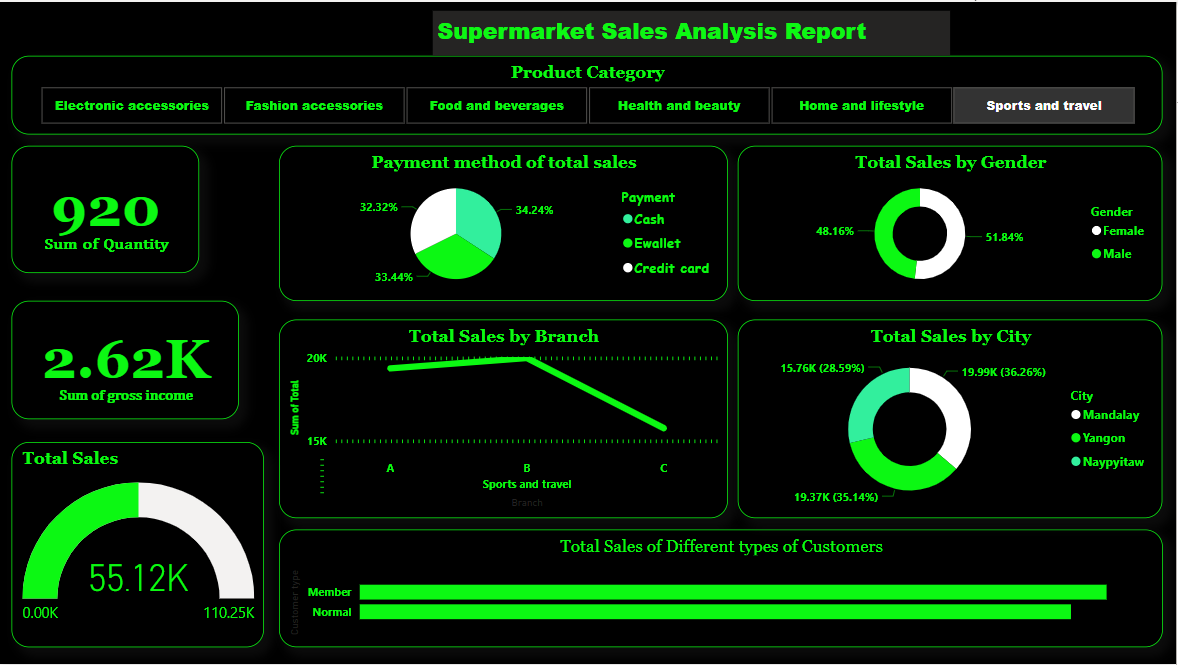

Layout of this report page (visuals, bound fields, positions):
{"tool":"powerbi","page":{"name":"Page 1","canvas":[1280,720],"ordinal":0},"visuals":[{"type":"lineChart","title":"Total Sales by Branch","fields":{"Y":["Sum(supermarket_sales - Sheet1 (2).Total)"],"Category":["supermarket_sales - Sheet1 (2).Product line","supermarket_sales - Sheet1 (2).Branch"]},"box":[304.4,345.1,487.8,216.1],"z":0},{"type":"slicer","title":"Product Category","fields":{"Values":["supermarket_sales - Sheet1 (2).Product line"]},"box":[13.6,58.4,1251.5,85.6],"z":1000},{"type":"clusteredBarChart","title":"Total Sales of Different types of   Customers","fields":{"Category":["supermarket_sales - Sheet1 (2).Customer type"],"Y":["Sum(supermarket_sales - Sheet1 (2).Total)"]},"box":[304.4,573.4,960.7,127.7],"z":2000},{"type":"card","title":"Total Gross Income","fields":{"Values":["Sum(supermarket_sales - Sheet1 (2).gross income)"]},"box":[13.6,324.8,247.3,129.1],"z":3000},{"type":"card","fields":{"Values":["Sum(supermarket_sales - Sheet1 (2).Quantity)"]},"box":[13.6,156.3,203.8,138.6],"z":4000},{"type":"donutChart","title":"Total Sales by City","fields":{"Y":["Sum(supermarket_sales - Sheet1 (2).Total)"],"Category":["supermarket_sales - Sheet1 (2).City"]},"box":[803.1,345.1,462,216.1],"z":5000},{"type":"gauge","title":"Total Sales ","fields":{"Y":["Sum(supermarket_sales - Sheet1 (2).Total)"]},"box":[13.6,478.3,274.5,222.8],"z":6000},{"type":"pieChart","title":" Payment method of total sales","fields":{"Y":["Sum(supermarket_sales - Sheet1 (2).Total)"],"Category":["supermarket_sales - Sheet1 (2).Payment"]},"box":[304.4,156.3,487.8,168.5],"z":7000},{"type":"donutChart","title":"Total Sales by Gender","fields":{"Y":["Sum(supermarket_sales - Sheet1 (2).Total)"],"Category":["supermarket_sales - Sheet1 (2).Gender"]},"box":[803.1,156.3,462,168.5],"z":8000},{"type":"textbox","box":[471.5,9.5,562.5,48.9],"z":9000}]}

Visuals, with their boxes in screenshot pixels (x1, y1, x2, y2), scaled from the page's 1280x720 canvas onto the 1178x665 screenshot:
"Total Sales by Branch" lineChart: box(280, 319, 729, 518)
"Product Category" slicer: box(13, 54, 1164, 133)
"Total Sales of Different types of   Customers" clusteredBarChart: box(280, 530, 1164, 648)
"Total Gross Income" card: box(13, 300, 240, 419)
card - Sum(supermarket_sales - Sheet1 (2).Quantity): box(13, 144, 200, 272)
"Total Sales by City" donutChart: box(739, 319, 1164, 518)
"Total Sales " gauge: box(13, 442, 265, 648)
" Payment method of total sales" pieChart: box(280, 144, 729, 300)
"Total Sales by Gender" donutChart: box(739, 144, 1164, 300)
textbox: box(434, 9, 952, 54)
